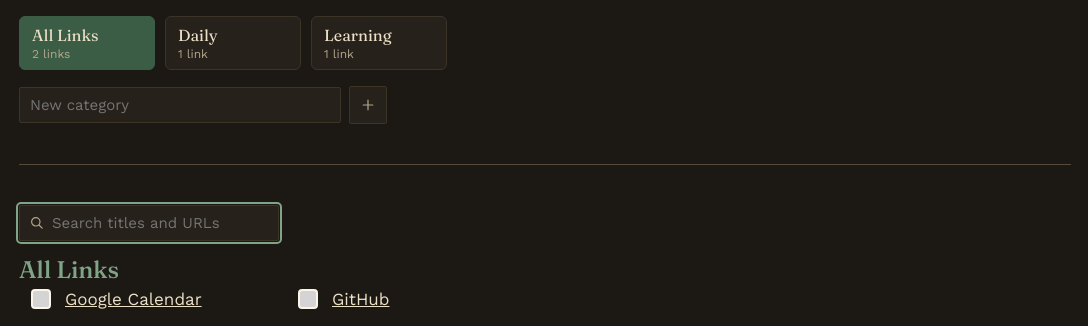
Test case: UserFavorites: All Links view › filters links as you type in the search box
Type "calendar" into the search field named "search links". click: {"x": 149, "y": 223}
box: [19, 205, 279, 241]
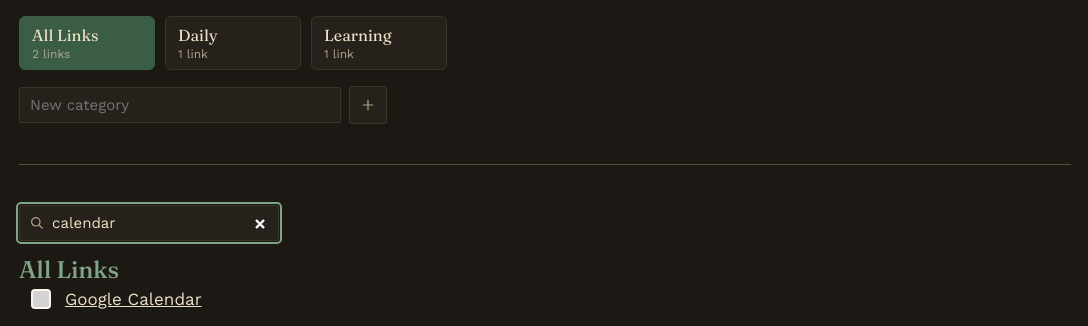
Check: the link "Google Calendar" is shown, box [65, 288, 202, 308]
Check: the link "GitHub" is gone
